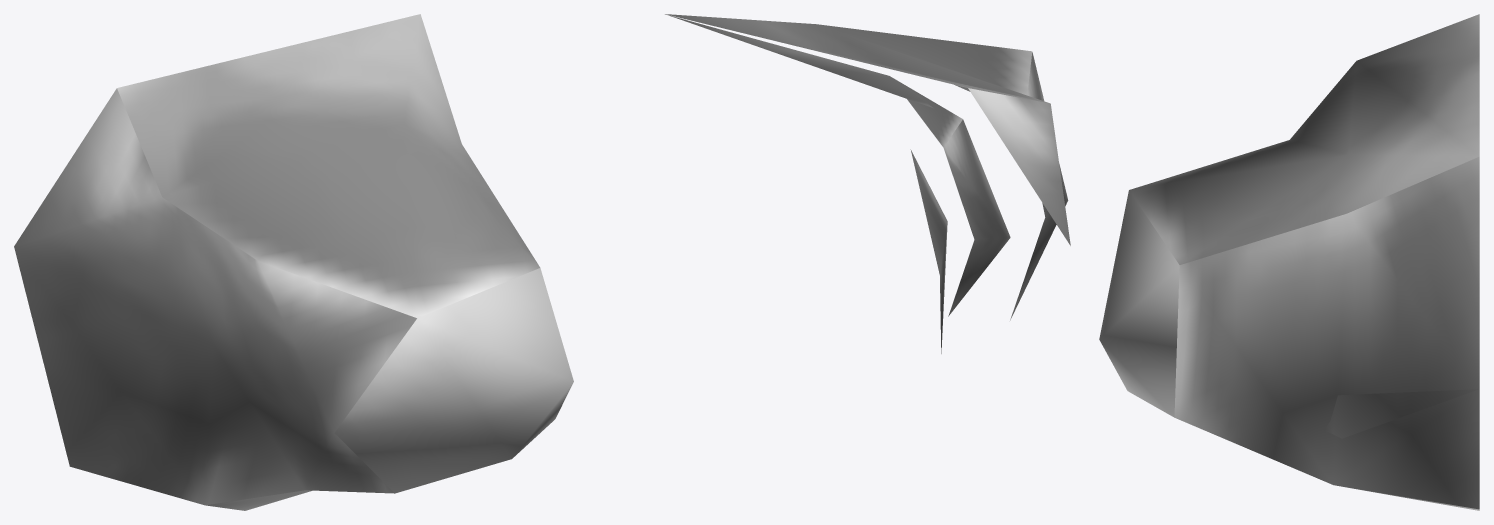
Rendered from model_chunks.glb.
3 views of the same model, side by side, from view 1: azimuth 30°, elevation 25°; view 2: azimuth 150°, elevation 25°; view 3: azimuth 270°, elevation 25° (orthographic). The views are drawn at different scales.
Visible parts, largest first — view 1: parts.model_chunks-MeshSets[mesh_chunk_lrg].Mesh[0]; view 2: parts.model_chunks-MeshSets[mesh_chunk_lrg].Mesh[0], parts.model_chunks-MeshSets[mesh_chunk_med].Mesh[0], parts.model_chunks-MeshSets[mesh_chunk_sml].Mesh[0]; view 3: parts.model_chunks-MeshSets[mesh_chunk_lrg].Mesh[0], parts.model_chunks-MeshSets[mesh_chunk_med].Mesh[0].
Boxes of the visible parts, x1,y1,x2,y2 form: parts.model_chunks-MeshSets[mesh_chunk_lrg].Mesh[0]: (14, 14, 573, 510); parts.model_chunks-MeshSets[mesh_chunk_lrg].Mesh[0]: (665, 14, 1070, 320); parts.model_chunks-MeshSets[mesh_chunk_med].Mesh[0]: (668, 15, 1010, 316); parts.model_chunks-MeshSets[mesh_chunk_sml].Mesh[0]: (910, 149, 947, 353); parts.model_chunks-MeshSets[mesh_chunk_lrg].Mesh[0]: (1099, 14, 1479, 510); parts.model_chunks-MeshSets[mesh_chunk_med].Mesh[0]: (1324, 389, 1478, 438).
Size of the model in its own units: 1.34 by 1.24 by 0.9768.
1 material, 1 textured.
